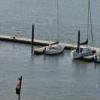Boat: (34, 35, 99, 60)
